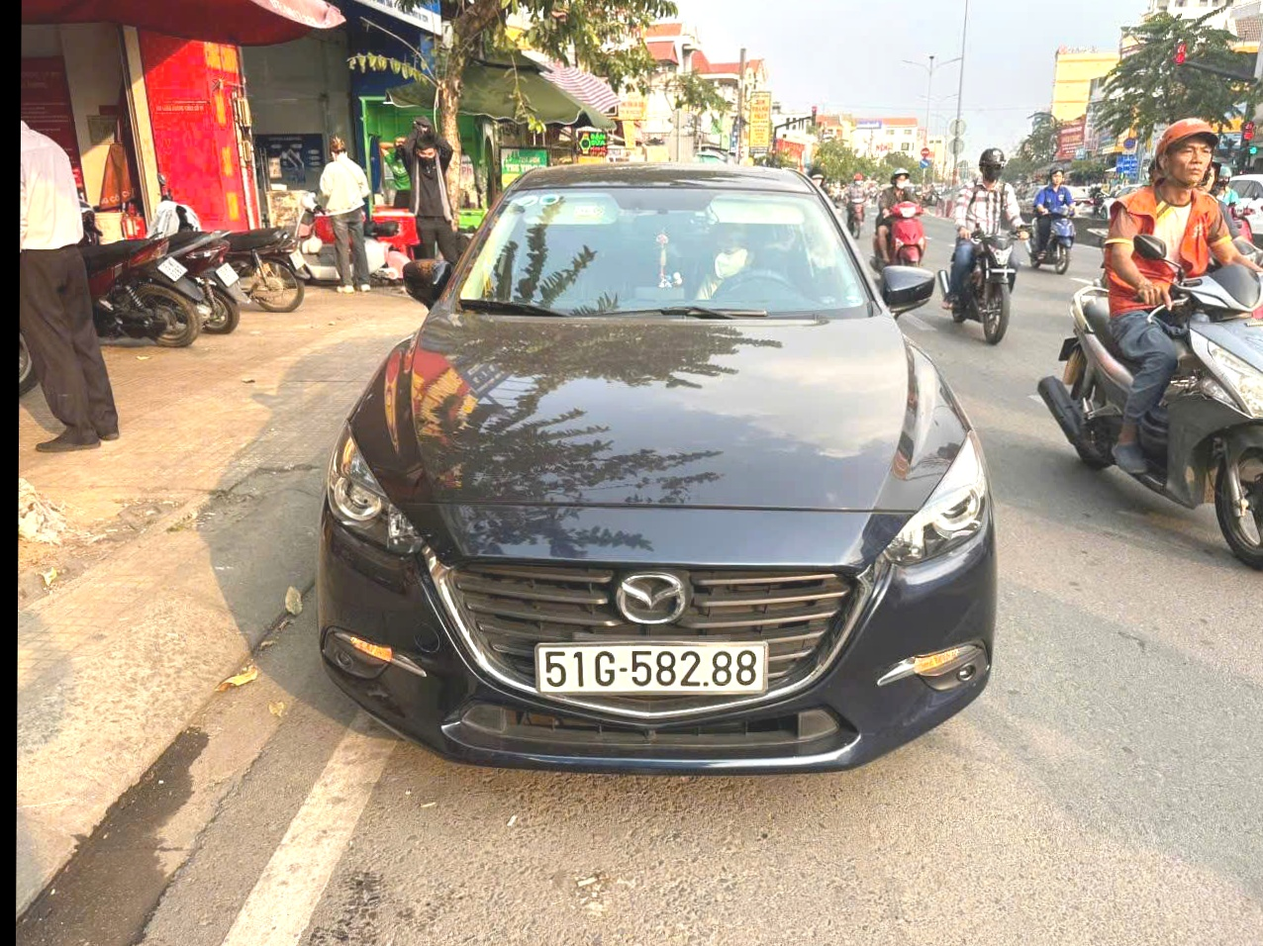Bien-so: (534, 643, 766, 697)
